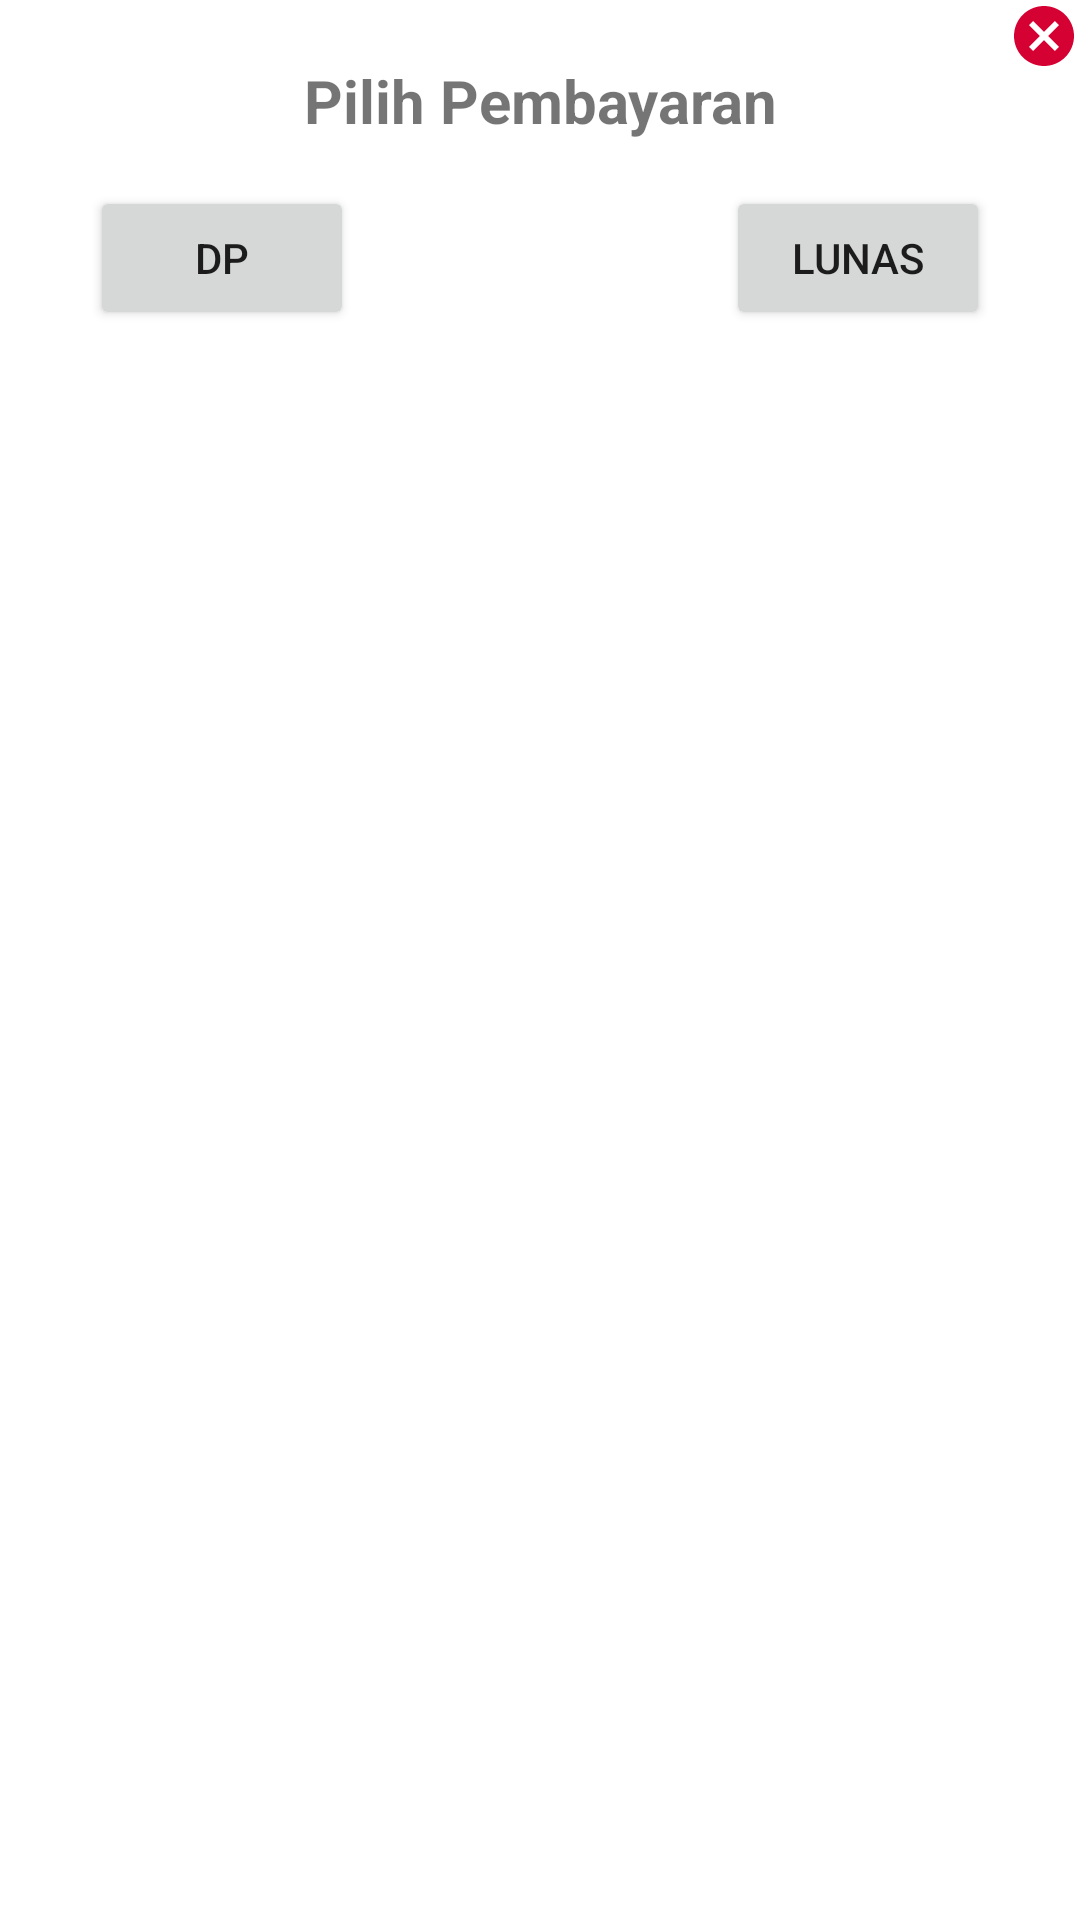

Point at icon controls on the screen. Image size 1080px x 1920px, points as (x=x, y=y).
cancel: (x=1044, y=36)
